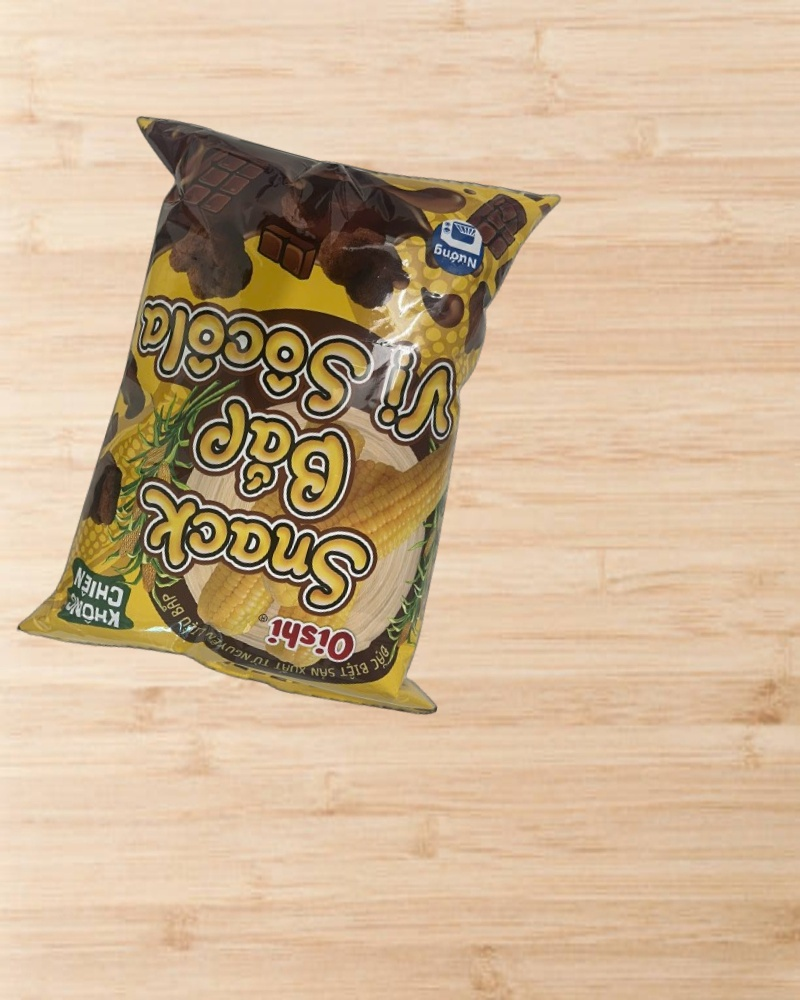Snack socola: (3, 89, 572, 740)
